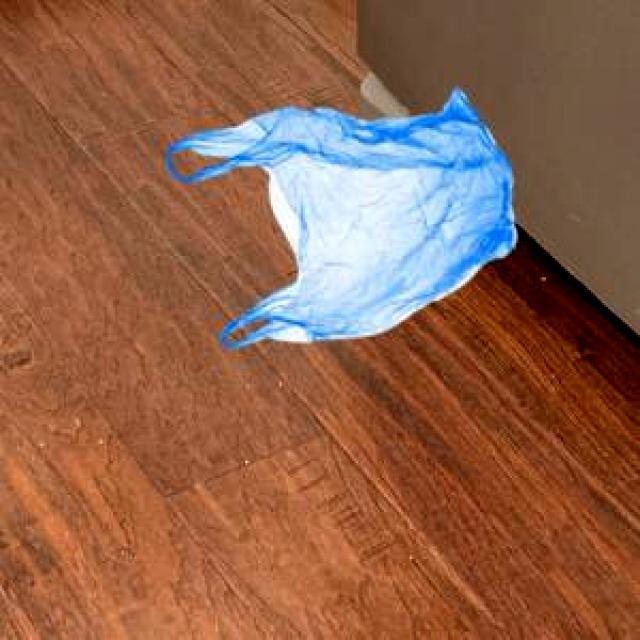Plastic_Bag: (167, 84, 514, 345)
